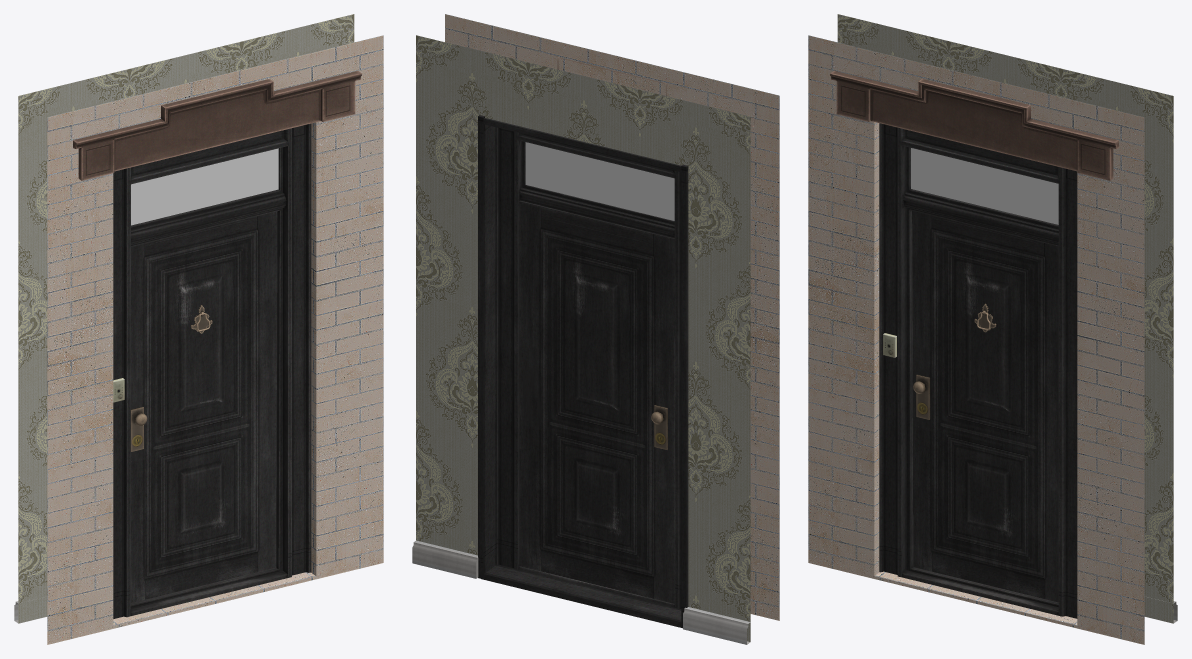
The model's file is House_06_Wall_Door.fbx.
The picture shows the model from 3 angles, left to right: view 1: azimuth 30°, elevation 25°; view 2: azimuth 150°, elevation 25°; view 3: azimuth 330°, elevation 25°; orthographic projection.
Visible parts, largest first — view 1: House_06_Wall_Door_LOD0, House_06_Door_LOD0; view 2: House_06_Wall_Door_LOD0, House_06_Door_LOD0; view 3: House_06_Wall_Door_LOD0, House_06_Door_LOD0.
Part boxes in pixels (bbox=[...]): House_06_Wall_Door_LOD0: bbox=[14, 14, 383, 644]; House_06_Door_LOD0: bbox=[130, 211, 277, 602]; House_06_Wall_Door_LOD0: bbox=[412, 14, 779, 644]; House_06_Door_LOD0: bbox=[519, 200, 674, 603]; House_06_Wall_Door_LOD0: bbox=[808, 14, 1177, 644]; House_06_Door_LOD0: bbox=[912, 210, 1058, 602].
Size of what is drawn, in the model's own units: 200 by 301 by 37.99.
